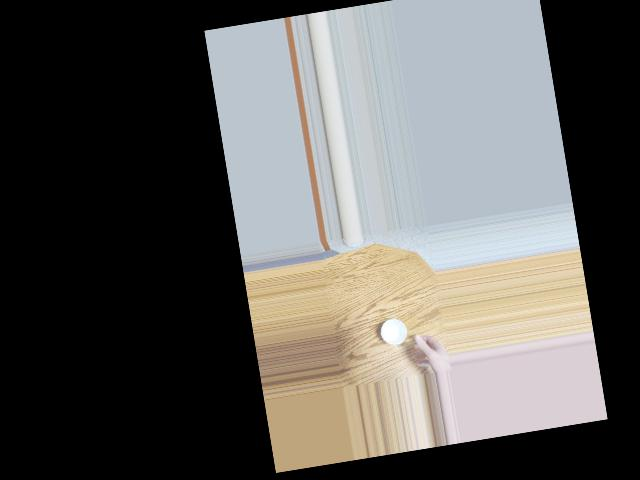cotage: (379, 316, 412, 353)
